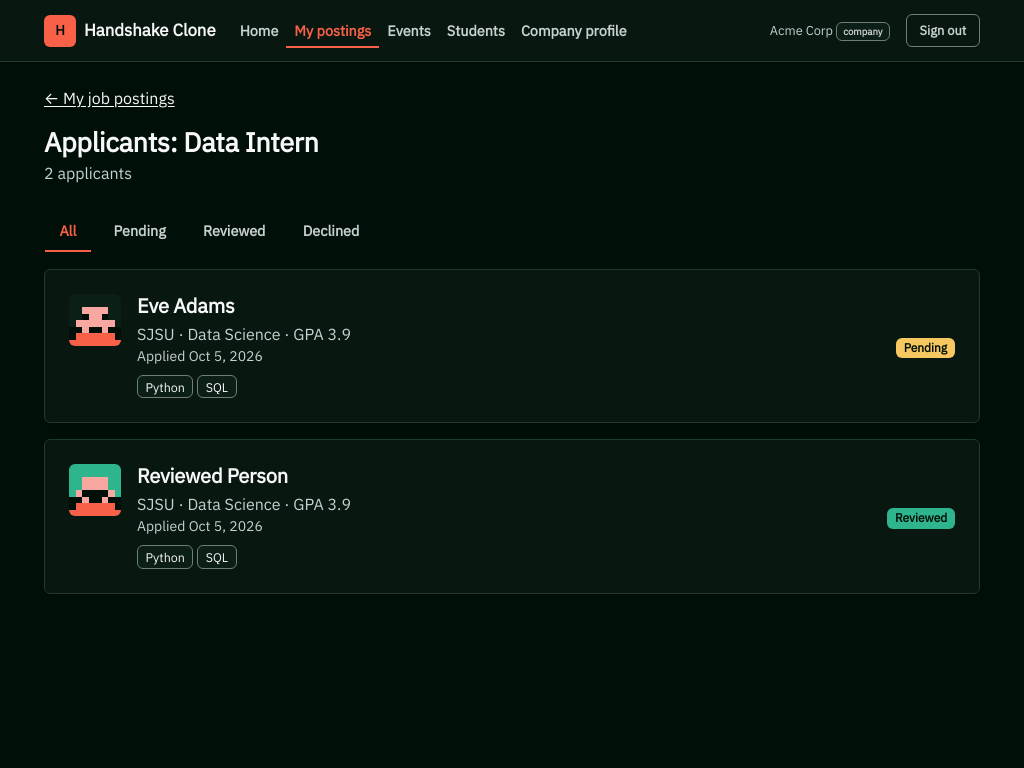
Test: Applicants › lists applicants and filters by status
Expected: the number of elements with test id "applicant-card" is 2, [44,269,980,424]; [44,440,980,594]
Expected: the text "SJSU · Data Science · GPA 3.9" below "Eve Adams" is shown, [280,324,351,344]
Click the button "Reviewed".
click(234, 231)  # box [203,221,266,240]
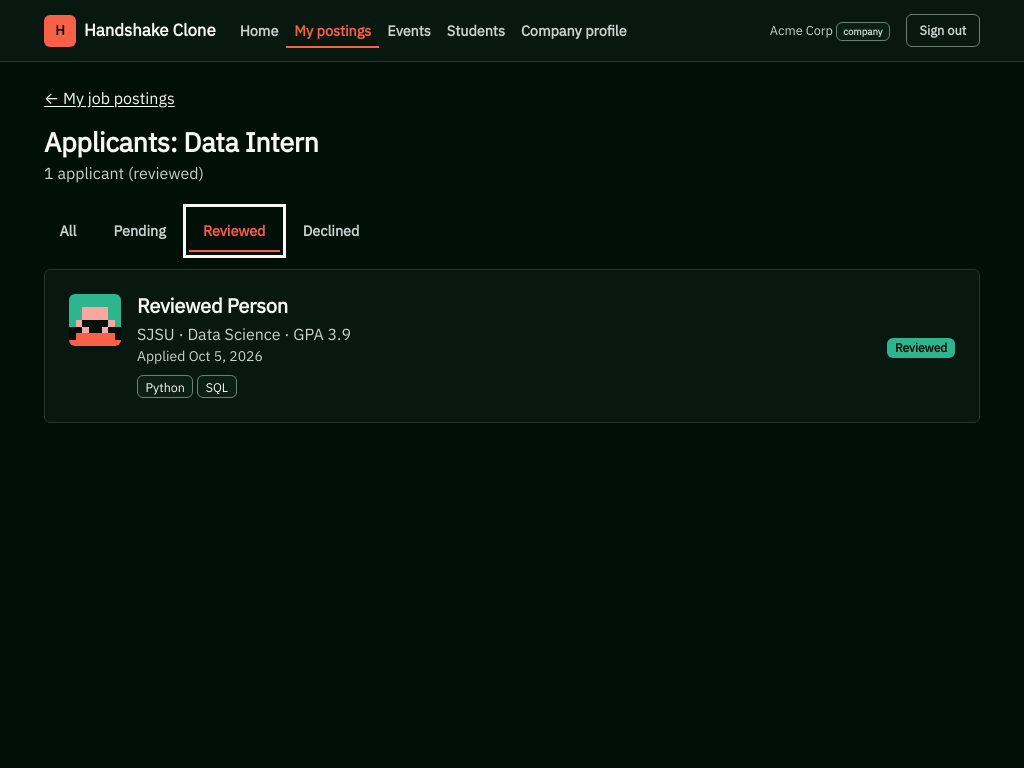
Expected: the link "Reviewed Person" is shown, [137,292,288,319]
Result: the link "Eve Adams" is gone
